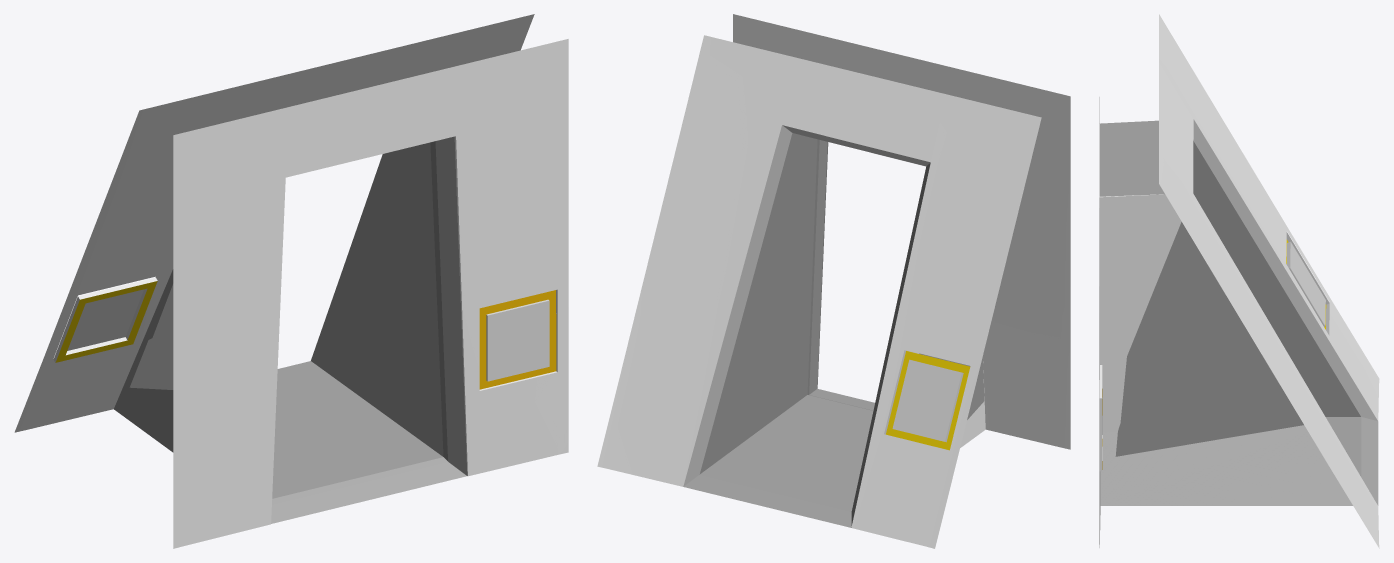
Rendered from Door_Slope_V3.fbx.
The picture shows the model from 3 angles, left to right: view 1: azimuth 30°, elevation 25°; view 2: azimuth 150°, elevation 25°; view 3: azimuth 270°, elevation 25°; orthographic projection. The views are drawn at different scales.
Visible parts, largest first — view 1: Frame, Frame_holo_slope, Control_panel_back, Control_Panel_front; view 2: Frame, Frame_holo_slope, Control_Panel_front; view 3: Frame, Frame_holo_slope, Control_Panel_front.
Part boxes in pixels (box(x1,y1,x2,y2)): Frame: box(14, 14, 568, 548); Frame_holo_slope: box(114, 136, 467, 523); Control_panel_back: box(479, 290, 556, 389); Control_Panel_front: box(53, 277, 157, 362); Frame: box(597, 14, 1070, 548); Frame_holo_slope: box(683, 125, 984, 527); Control_Panel_front: box(884, 350, 970, 450); Frame: box(1099, 14, 1379, 548); Frame_holo_slope: box(1099, 119, 1378, 505); Control_Panel_front: box(1286, 232, 1329, 335).
Size of the model in its own units: 500 by 500 by 348.
